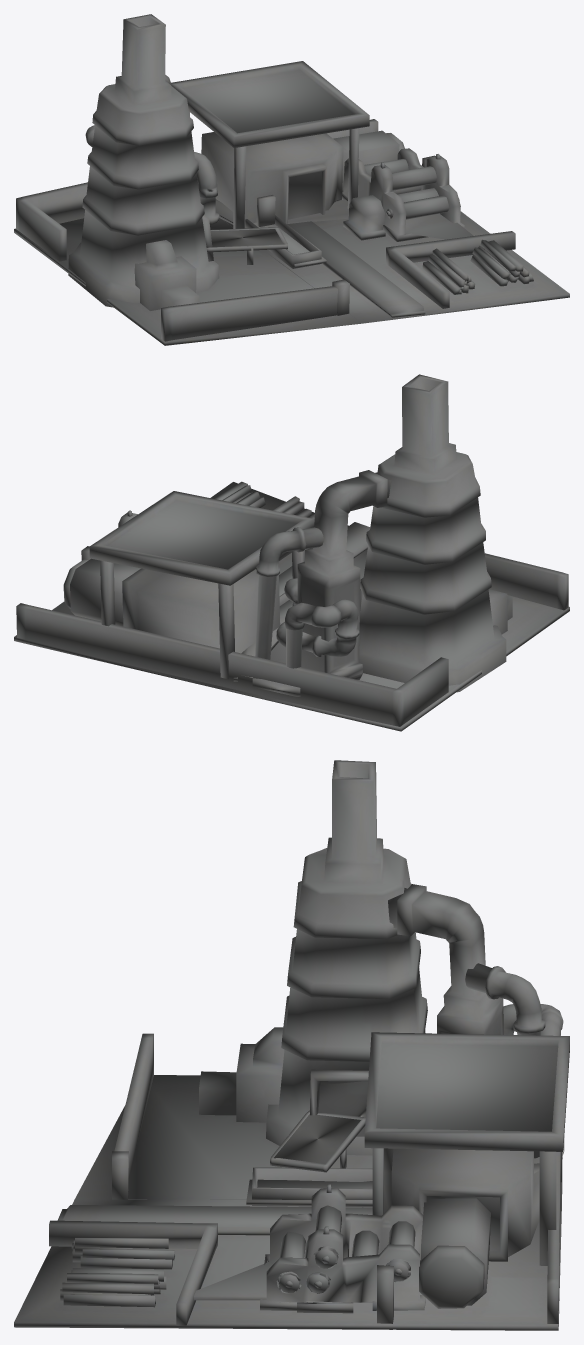
The model's file is original_glb.glb.
3 views of the same model, one above another, from view 1: azimuth 30°, elevation 25°; view 2: azimuth 150°, elevation 25°; view 3: azimuth 270°, elevation 25° (orthographic). The views are drawn at different scales.
Parts seen in each view (by area): view 1: Ivory Furnace Rolling Works; view 2: Ivory Furnace Rolling Works; view 3: Ivory Furnace Rolling Works.
Part boxes in pixels (left/top/right/bottom): Ivory Furnace Rolling Works: left=14, top=14, right=569, bottom=345; Ivory Furnace Rolling Works: left=14, top=374, right=569, bottom=731; Ivory Furnace Rolling Works: left=14, top=760, right=569, bottom=1330.
Bounding box in the file's own units: 0.998 × 0.6855 × 0.9629.
1 material, 1 textured.
